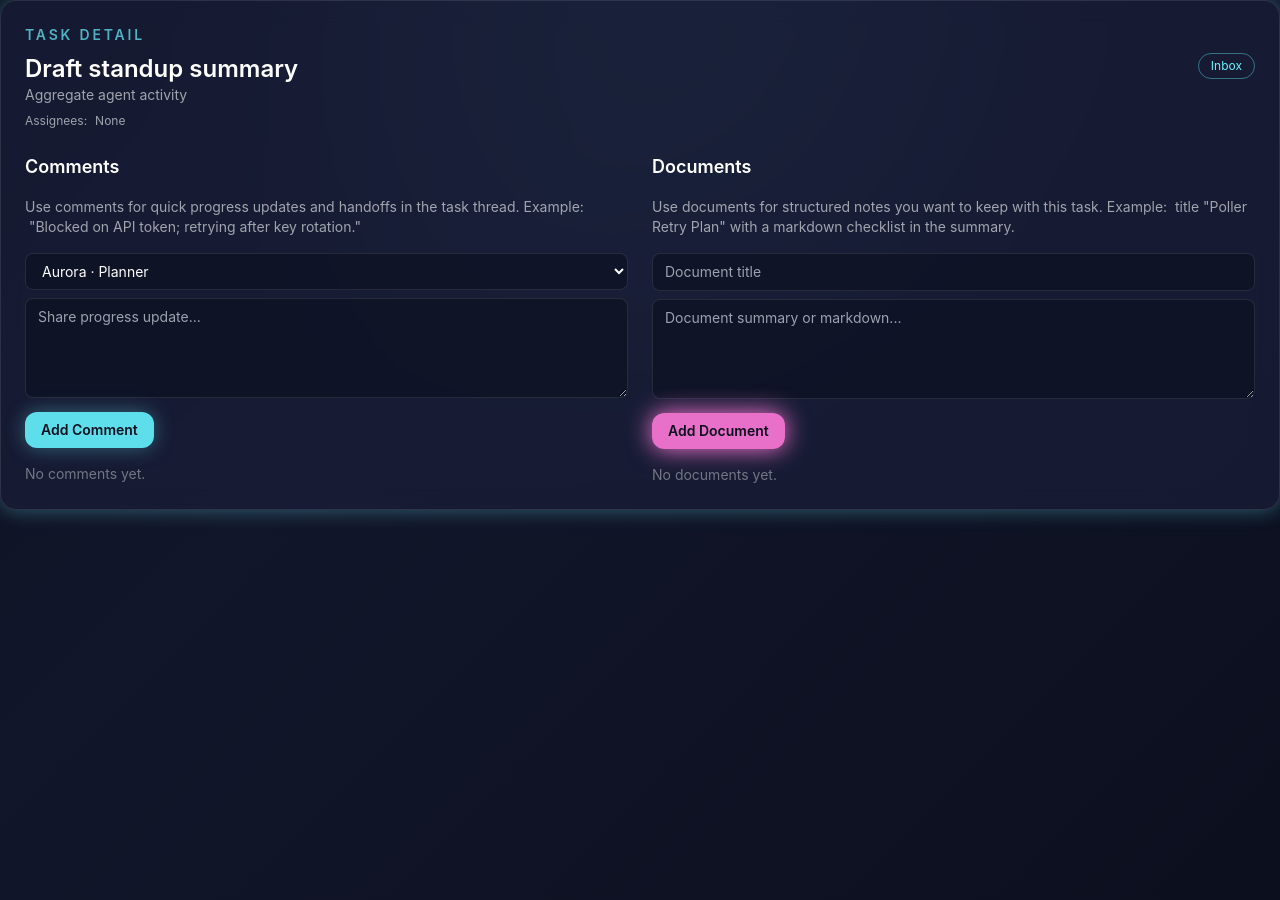
Test: TaskDetail › adds comments and documents
The width and height of the screenshot is (1280, 900).
Type "Posted the draft summary." into the text box with placeholder "Share progress update..." at (326, 348), box [25,298,628,398]
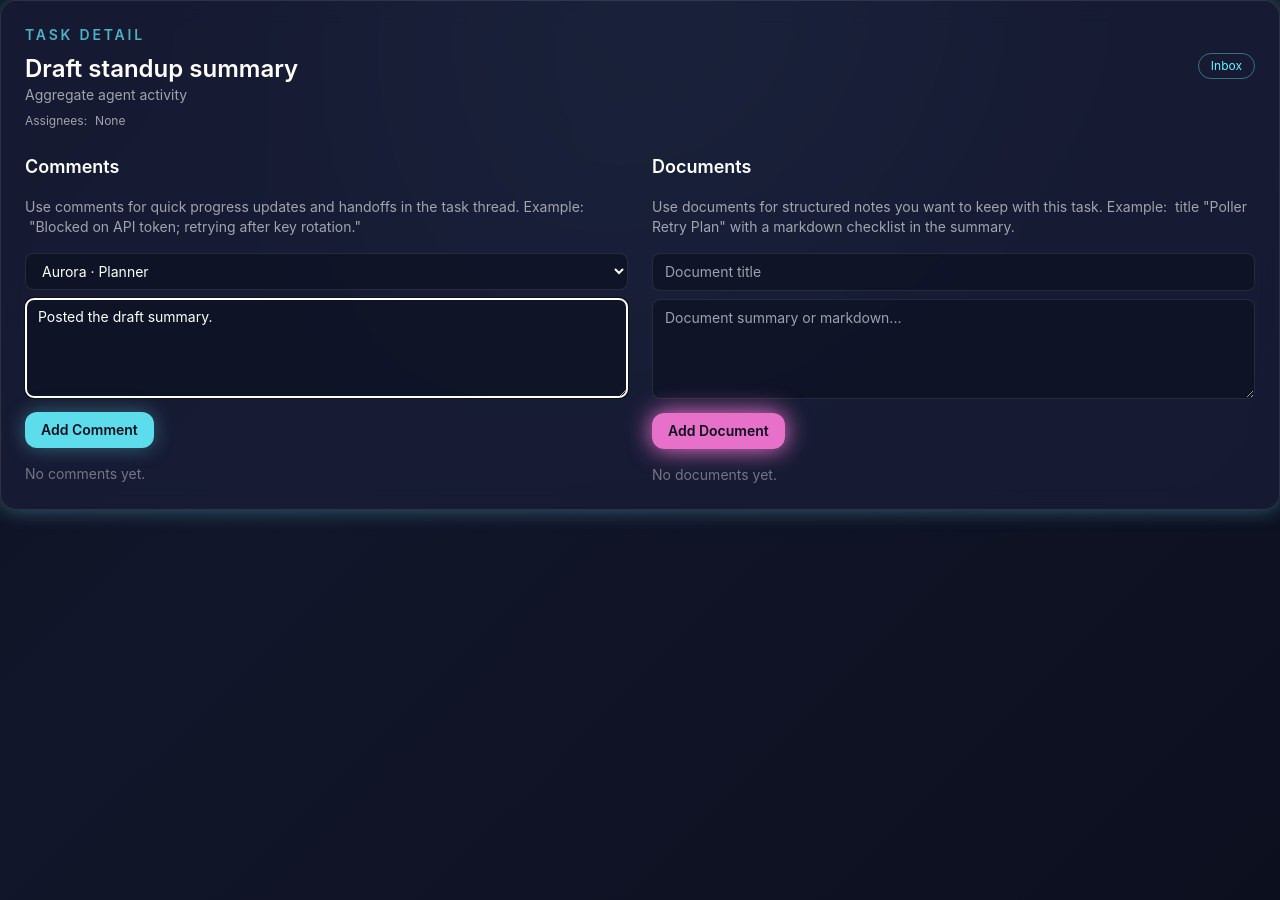
Click the button "Add Comment" at (89, 430), box [25,412,154,448]
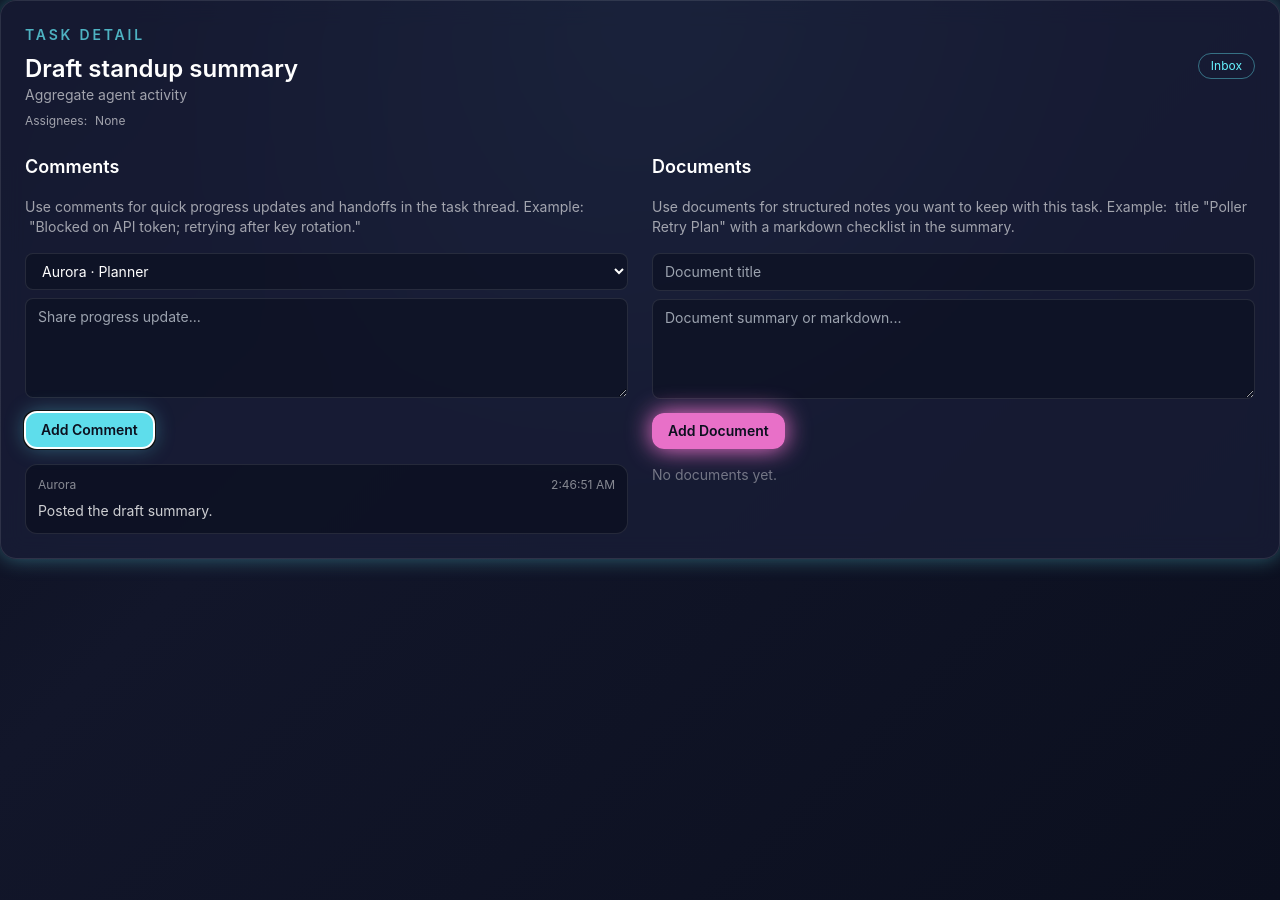
Expected: the text "Posted the draft summary." is shown, [38,502,212,519]
Type "Summary v1" into the field with placeholder "Document title" at (954, 272), box [652,253,1255,291]
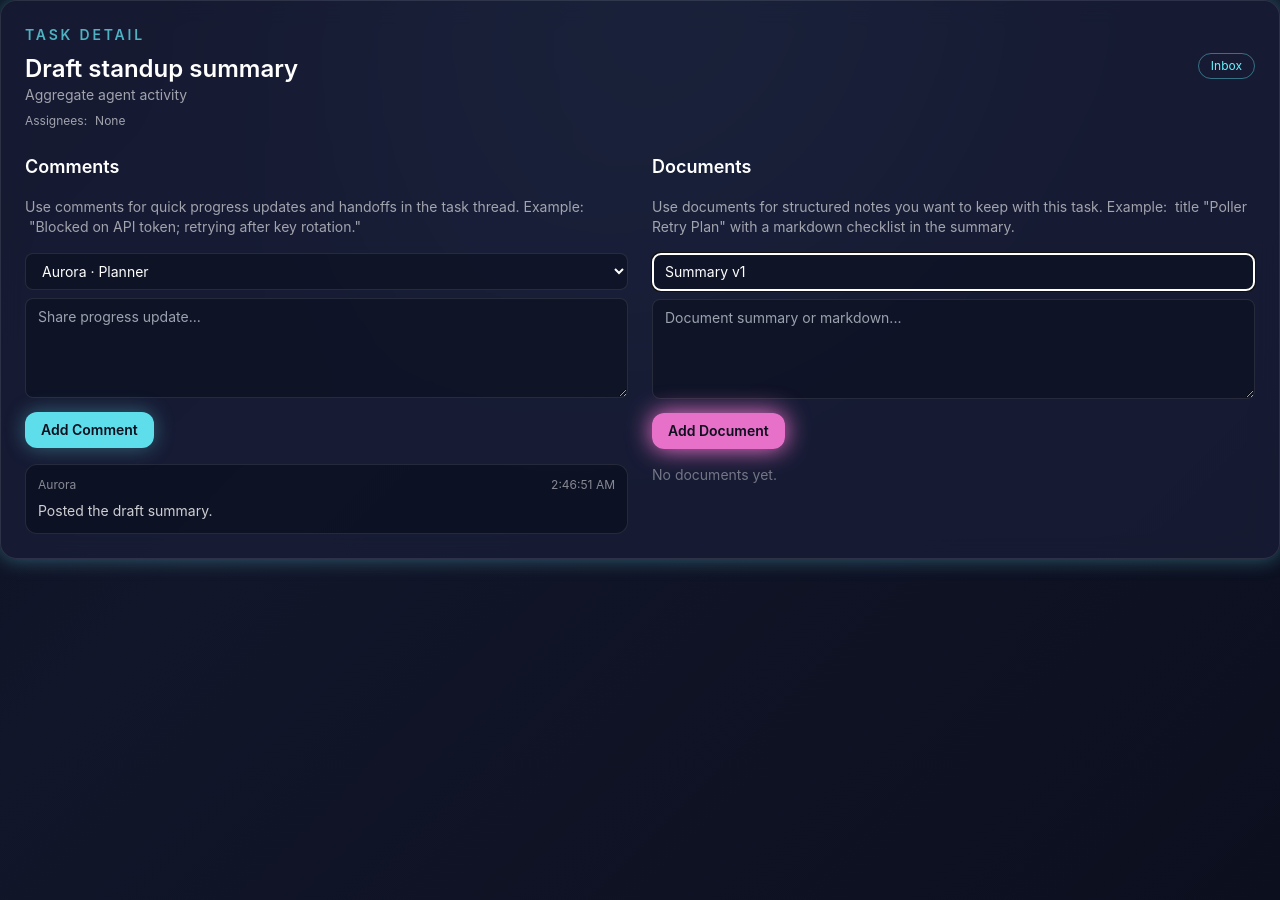
Type "Highlights and action items." into the text box with placeholder "Document summary or markdown..." at (954, 349), box [652,299,1255,399]
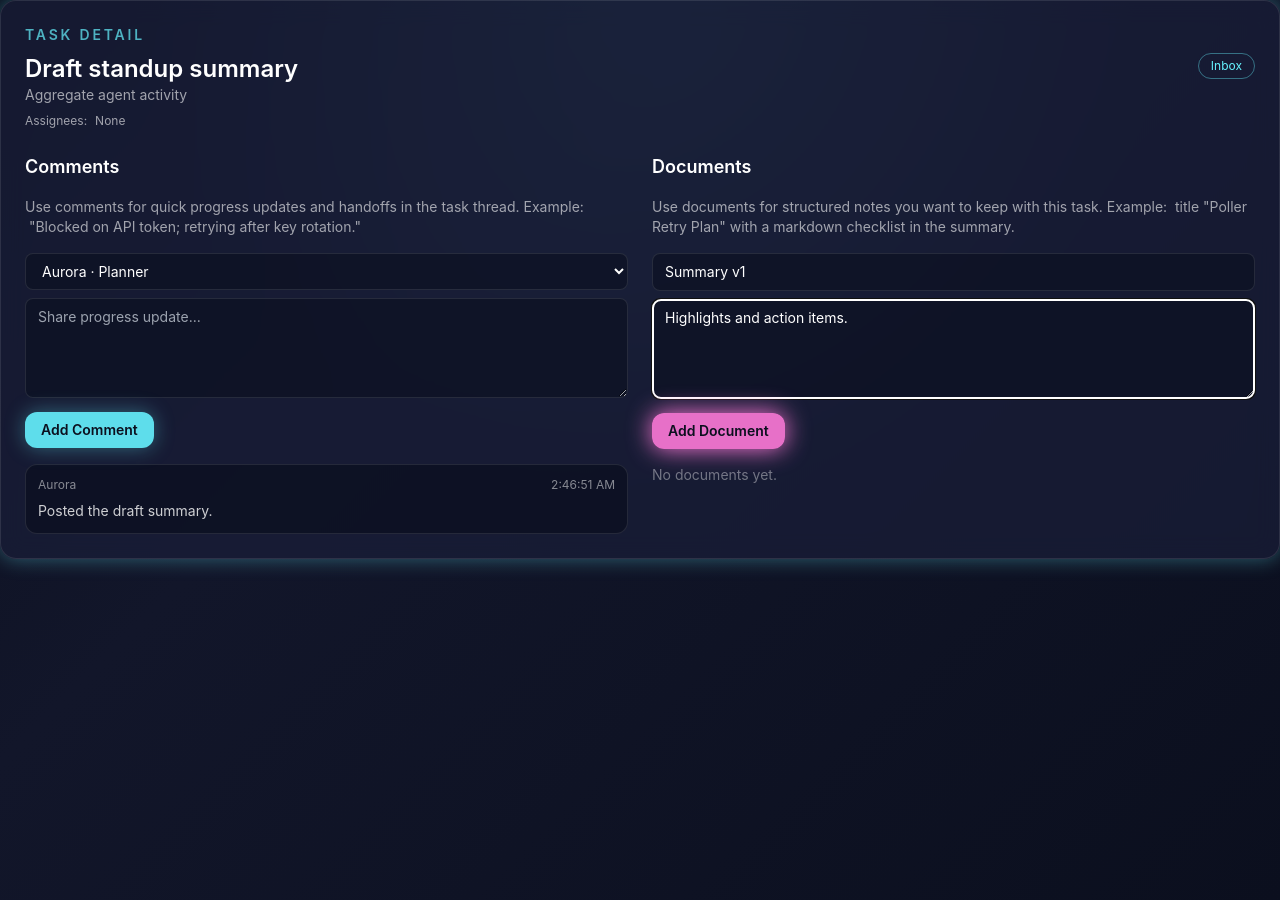
Click the button "Add Document" at (718, 431), box [652,413,785,449]
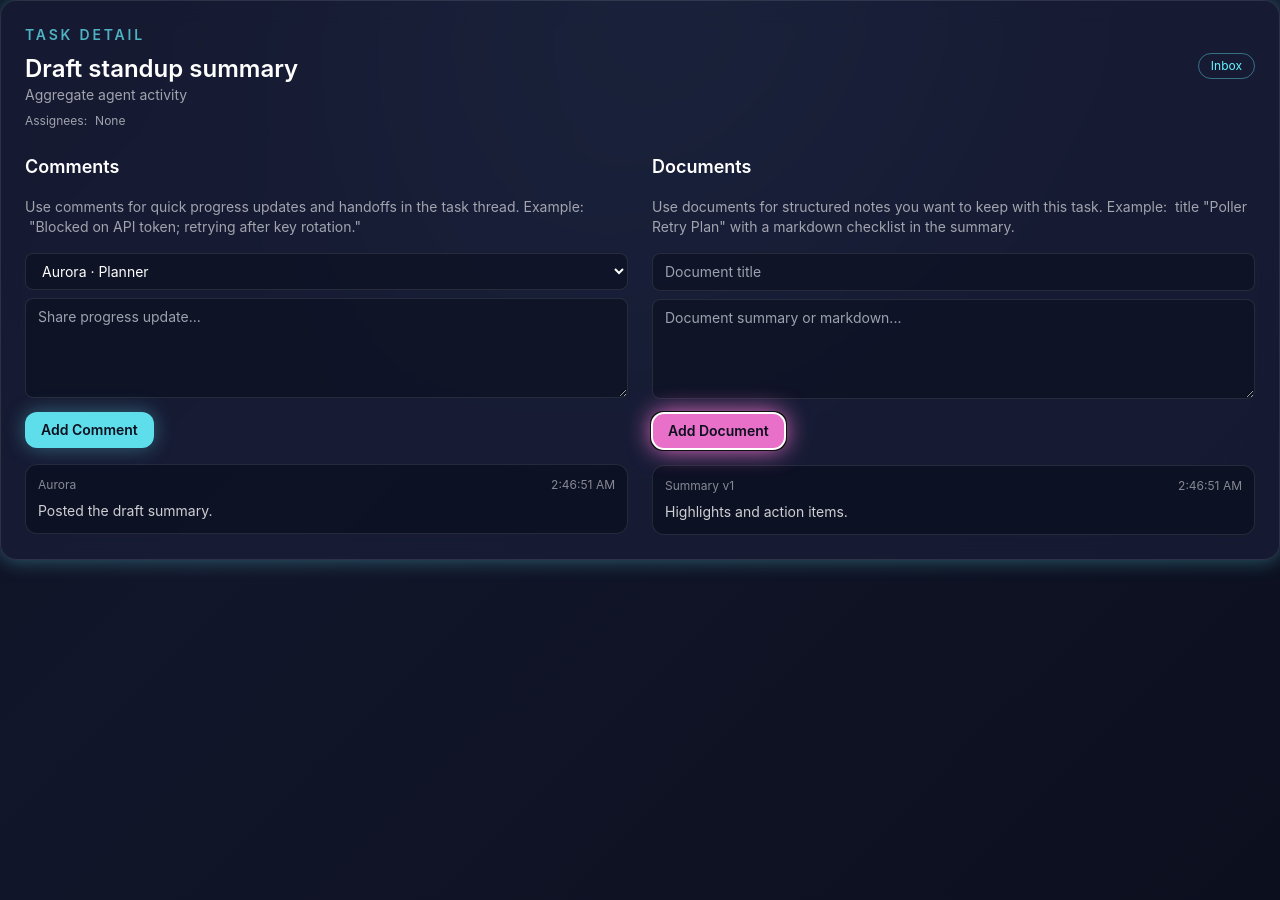
Expected: the text "Summary v1" is shown, [665,478,734,494]
Expected: the text "Highlights and action items." is shown, [665,503,848,520]
